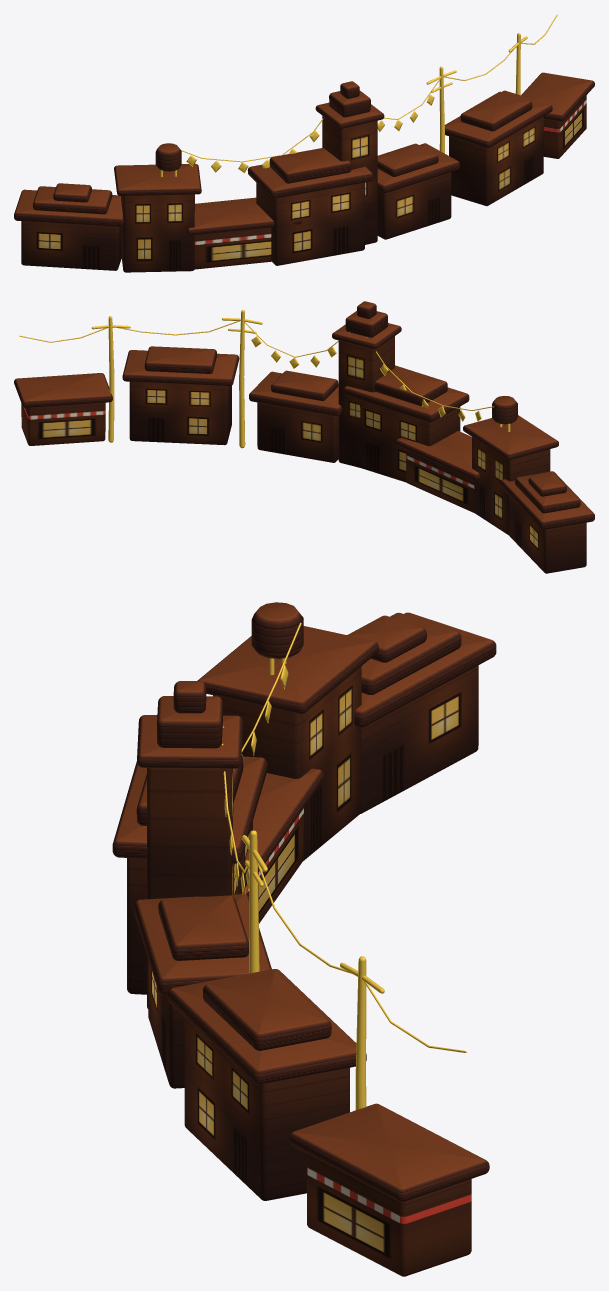
Rendered from duskline.glb.
3 views of the same model, one above another, from view 1: azimuth 30°, elevation 25°; view 2: azimuth 150°, elevation 25°; view 3: azimuth 270°, elevation 25° (orthographic). The views are drawn at different scales.
Parts seen in each view (by area): view 1: town, flags; view 2: town, flags; view 3: town, flags.
Part boxes in pixels (x1=…): town: x1=14, y1=14, x2=594, y2=272; flags: x1=181, y1=79, x2=440, y2=173; town: x1=14, y1=301, x2=594, y2=573; flags: x1=244, y1=322, x2=493, y2=421; town: x1=112, y1=602, x2=496, y2=1276; flags: x1=221, y1=622, x2=301, y2=894.
Bounding box in the file's own units: 20.45 × 5.33 × 5.88.
1 material, 1 textured.
